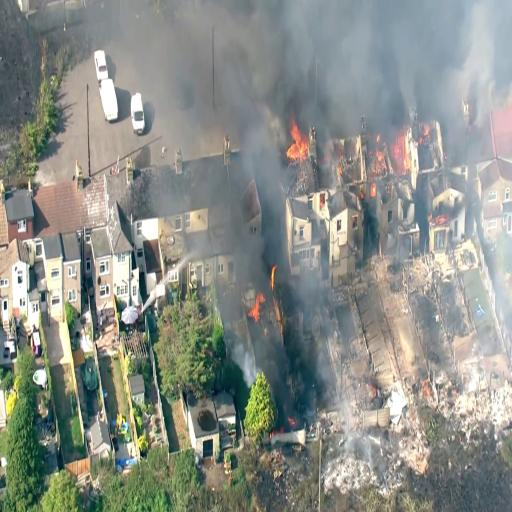fire: (287, 118, 314, 158), (394, 132, 414, 171)
smoke: (297, 0, 438, 107), (240, 0, 338, 101)
